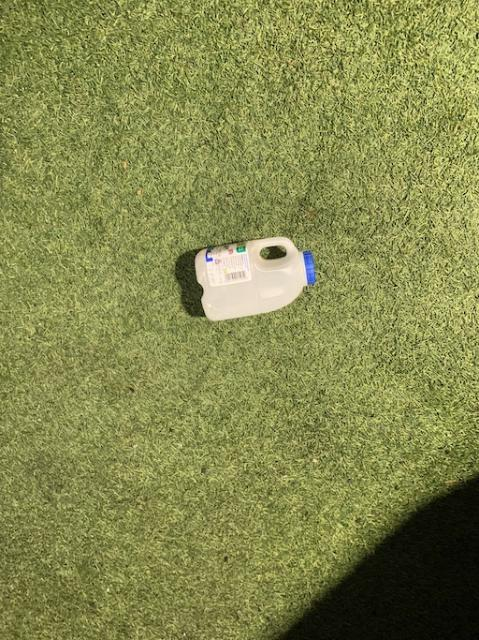plastic: (194, 236, 314, 319)
